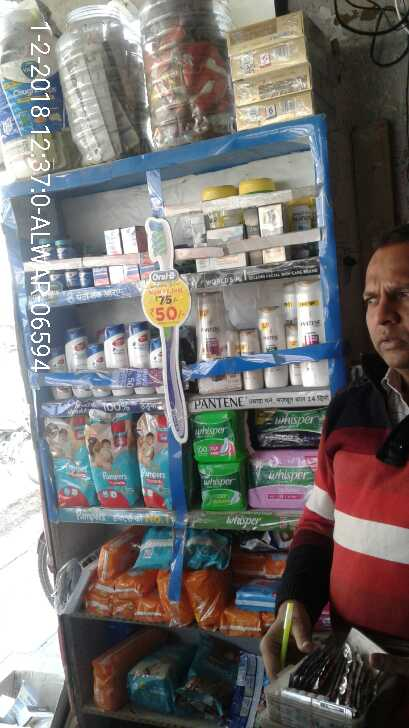vicks: (32, 217, 158, 294)
